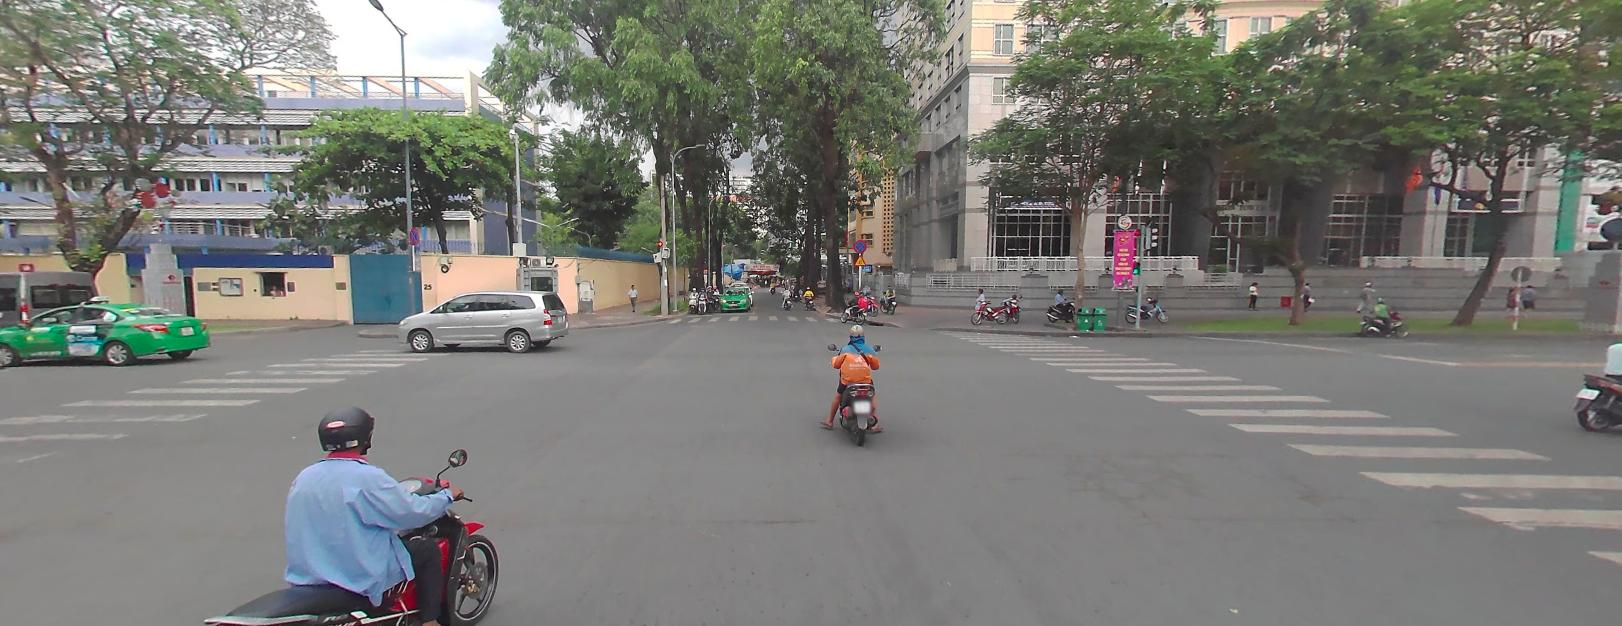Cam dung va do: (409, 225, 420, 242), (853, 237, 867, 251), (853, 238, 866, 252), (409, 225, 418, 242)
Nguy hiem: (854, 254, 866, 264), (853, 254, 866, 263)
